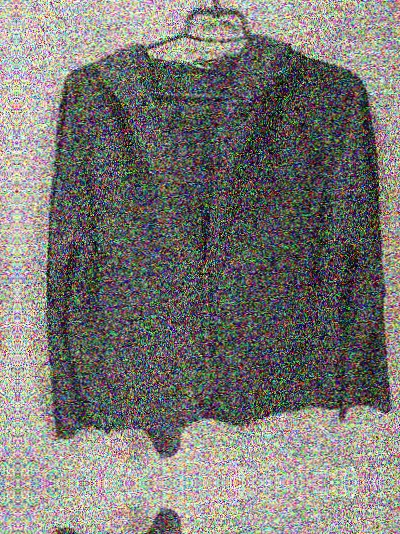Hoodie: (16, 22, 400, 462), (17, 505, 400, 534), (0, 23, 17, 463), (0, 506, 19, 534)
